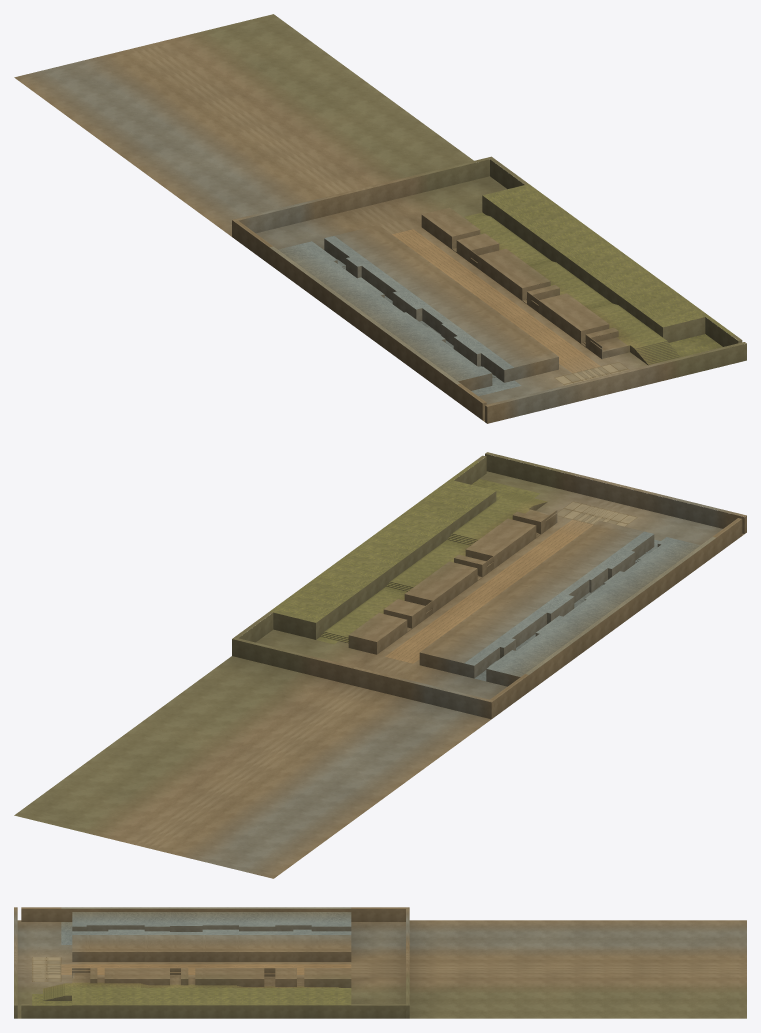
File: qalat-ground.glb
3 renders of one model, top to bottom at view 1: azimuth 30°, elevation 25°; view 2: azimuth 150°, elevation 25°; view 3: azimuth 270°, elevation 25°, orthographic. The views are drawn at different scales.
Parts seen in each view (by area): view 1: qalat-ground; view 2: qalat-ground; view 3: qalat-ground.
Boxes of the visible parts, x1,y1,x2,y2 form: qalat-ground: [14, 14, 746, 423]; qalat-ground: [14, 452, 746, 878]; qalat-ground: [14, 907, 746, 1018].
Size of the model in its own units: 128 by 8.01 by 404.
1 material, 1 textured.
